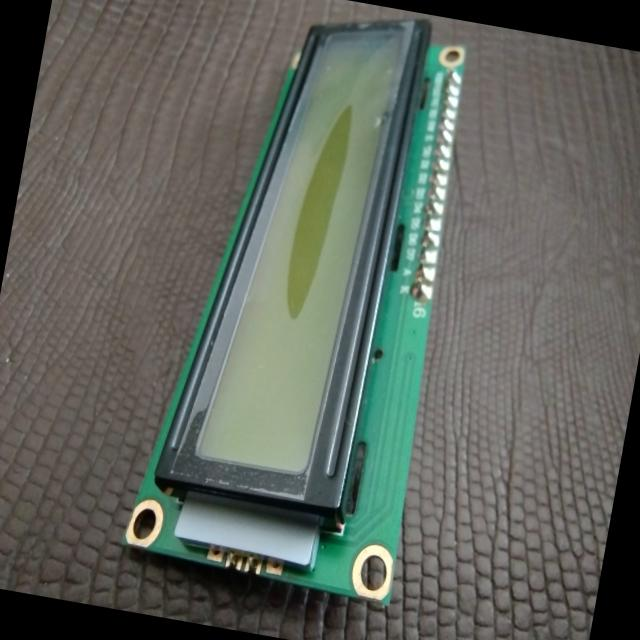lcd: (117, 0, 490, 607)
